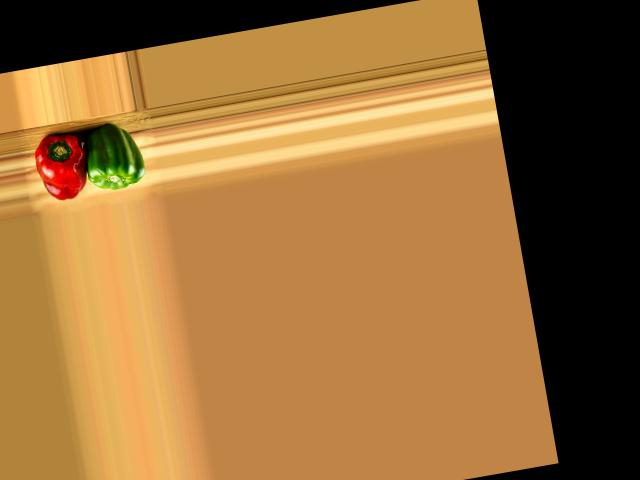bell_pepper: (30, 129, 95, 204)
